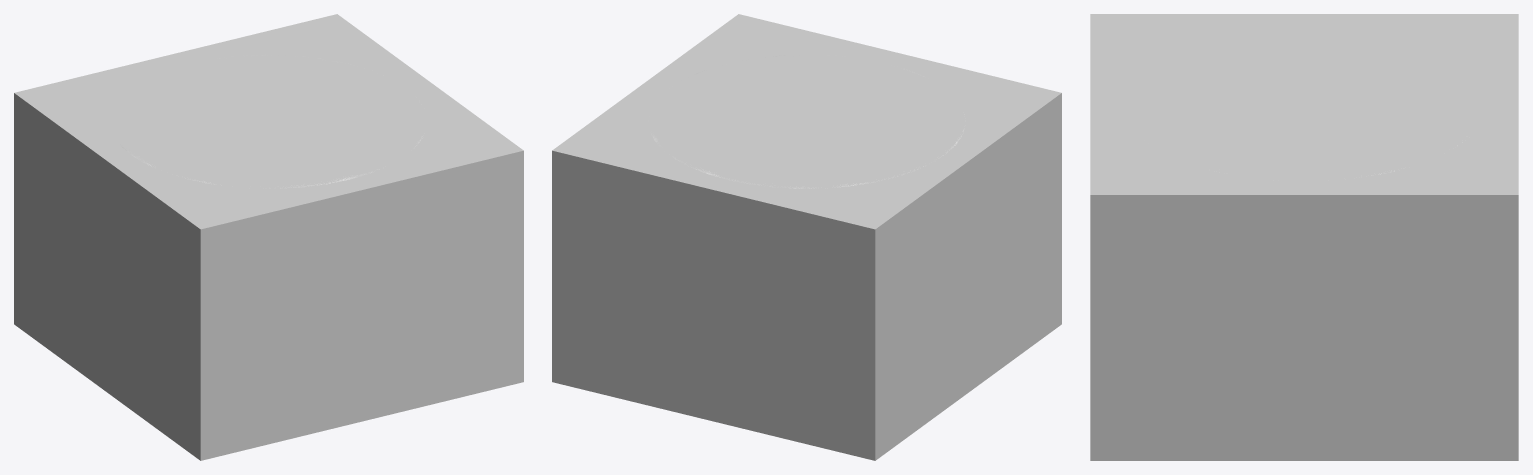
The model's file is UpLu_Round_Display.gltf.
The picture shows the model from 3 angles, left to right: view 1: azimuth 30°, elevation 25°; view 2: azimuth 150°, elevation 25°; view 3: azimuth 270°, elevation 25°; orthographic projection. The views are drawn at different scales.
Visible parts, largest first — view 1: UpLu_Round_Wooden_bcol; view 2: UpLu_Round_Wooden_bcol; view 3: UpLu_Round_Wooden_bcol.
Boxes of the visible parts, <box> form: UpLu_Round_Wooden_bcol: <box>14,14,523,460</box>; UpLu_Round_Wooden_bcol: <box>552,14,1061,460</box>; UpLu_Round_Wooden_bcol: <box>1090,14,1518,460</box>.
Size of the model in its own units: 1.63 by 1.12 by 1.63.
Materials: 1 (1 with a texture image).
